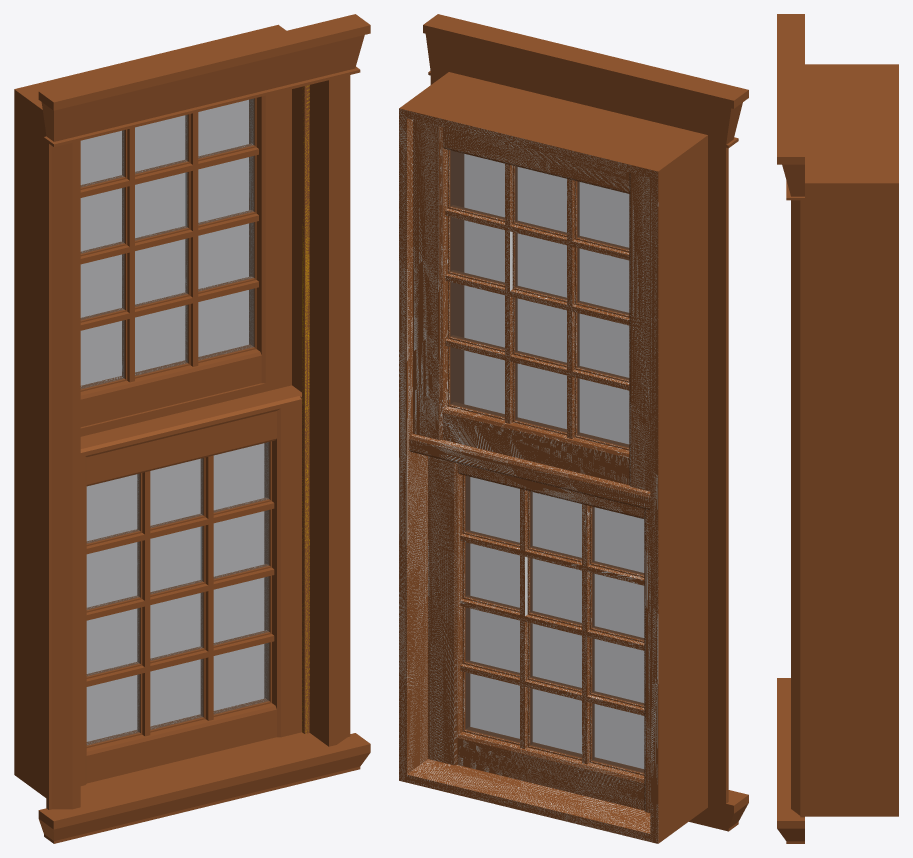
Rendered from vENTANAiNTERIOR.fbx.
3 views of the same model, side by side, from view 1: azimuth 30°, elevation 25°; view 2: azimuth 150°, elevation 25°; view 3: azimuth 270°, elevation 25° (orthographic). The views are drawn at different scales.
Parts seen in each view (by area): view 1: Componente_41_1_1, Componente_36_1, Componente_36_2, Componente_42_1, Componente_42_2, Componente_40_1, Componente_40_5, Componente_40_4, Componente_40_2, Componente_38_8, Componente_38_1, Componente_38_4 (+17 smaller); view 2: Componente_41_1_1, Componente_36_2, Componente_36_1, Componente_42_2, Componente_42_1, Componente_40_1, Componente_40_5, Componente_40_4, Componente_40_6, Componente_40_2, Componente_40_8, Componente_38_1 (+17 smaller); view 3: Componente_41_1_1.
Part boxes in pixels (x1,y1,x2,y2): Componente_41_1_1: (14, 14, 370, 843); Componente_36_1: (80, 406, 301, 785); Componente_36_2: (80, 89, 291, 426); Componente_42_1: (86, 455, 274, 736); Componente_42_2: (80, 112, 258, 382); Componente_40_1: (213, 642, 271, 716); Componente_40_5: (198, 288, 256, 362); Componente_40_4: (213, 441, 271, 515); Componente_40_2: (86, 673, 142, 747); Componente_38_8: (198, 155, 256, 227); Componente_38_1: (213, 575, 271, 647); Componente_38_4: (213, 509, 271, 581); Componente_41_1_1: (399, 14, 748, 843); Componente_36_2: (413, 120, 650, 491); Componente_36_1: (428, 456, 650, 812); Componente_42_2: (445, 163, 629, 438); Componente_42_1: (460, 489, 644, 764); Componente_40_1: (462, 672, 519, 745); Componente_40_5: (448, 346, 504, 420); Componente_40_4: (462, 475, 519, 547); Componente_40_6: (574, 377, 629, 450); Componente_40_2: (589, 703, 644, 775); Componente_40_8: (448, 150, 504, 222); Componente_38_1: (462, 606, 519, 677); Componente_41_1_1: (777, 14, 898, 843).
Size of the model in its own units: 1.2 by 2.7 by 0.4329.
